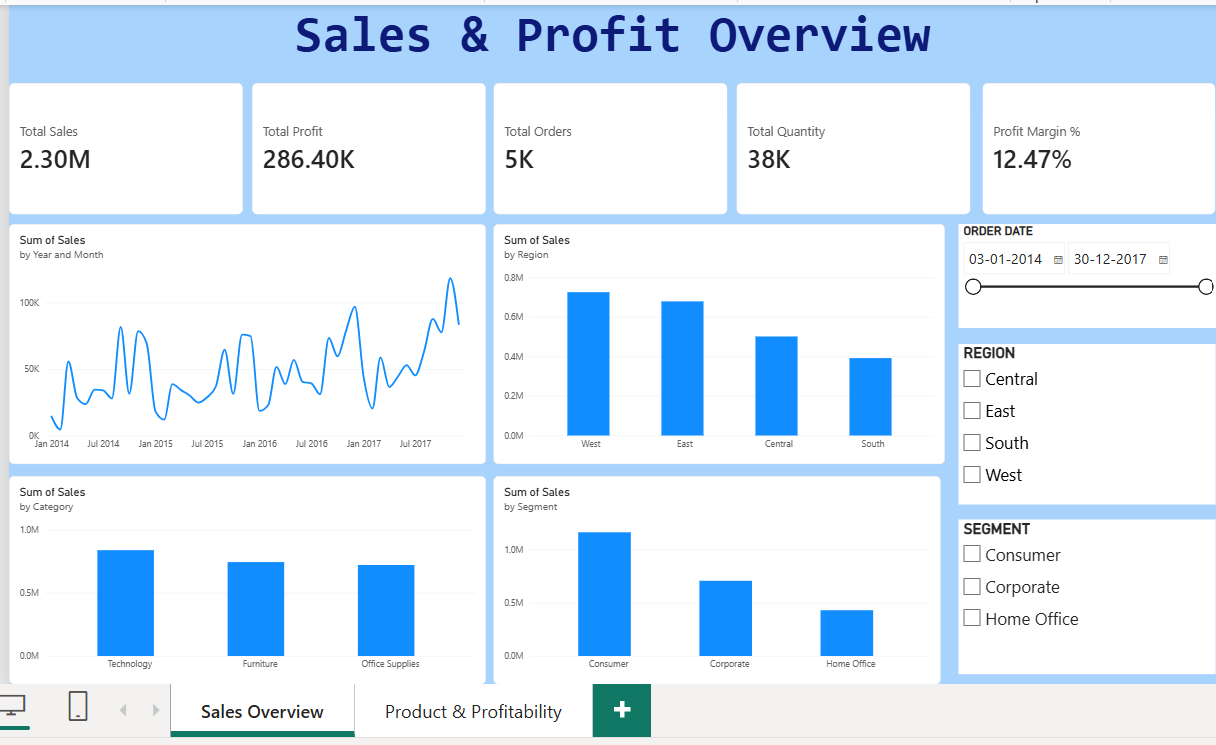

The dashboard page shown, as its layout file describes it:
{"tool":"powerbi","page":{"name":"Sales Overview","canvas":[1920,1080],"ordinal":0},"visuals":[{"type":"cardVisual","fields":{"Data":["Sample - Superstore.Total Sales"]},"box":[0,124.1,372.2,210],"z":0},{"type":"cardVisual","fields":{"Data":["Sample - Superstore.Total Profit"]},"box":[386.5,124.1,372.2,210],"z":1},{"type":"cardVisual","fields":{"Data":["Sample - Superstore.Total Orders"]},"box":[770.7,124.1,372.2,210],"z":2},{"type":"cardVisual","fields":{"Data":["Sample - Superstore.Total Quantity"]},"box":[1157.2,124.1,372.2,210],"z":3},{"type":"cardVisual","fields":{"Data":["Sample - Superstore.Profit Margin %"]},"box":[1548.5,124.1,372.2,210],"z":4},{"type":"lineChart","fields":{"Category":["Sample - Superstore.Order Date.Variation.Date Hierarchy.Year","Sample - Superstore.Order Date.Variation.Date Hierarchy.Month"],"Y":["Sum(Sample - Superstore.Sales)"]},"box":[0,348.3,758.7,381.7],"z":5},{"type":"clusteredColumnChart","fields":{"Category":["Sample - Superstore.Category"],"Y":["Sum(Sample - Superstore.Sales)"]},"box":[0,749.2,758.7,331.6],"z":6},{"type":"clusteredColumnChart","fields":{"Category":["Sample - Superstore.Region"],"Y":["Sum(Sample - Superstore.Sales)"]},"box":[770.7,348.3,718.2,381.7],"z":7},{"type":"clusteredColumnChart","fields":{"Category":["Sample - Superstore.Segment"],"Y":["Sum(Sample - Superstore.Sales)"]},"box":[770.7,749.2,711,331.6],"z":8},{"type":"textbox","box":[0,0,1920.7,124.1],"z":9},{"type":"slicer","fields":{"Values":["Sample - Superstore.Order Date"]},"box":[1510.3,348.3,410.4,164.6],"z":10},{"type":"slicer","fields":{"Values":["Sample - Superstore.Region"]},"box":[1510.3,539.2,410.4,255.3],"z":11},{"type":"slicer","fields":{"Values":["Sample - Superstore.Segment"]},"box":[1510.3,818.4,410.4,245.7],"z":12}]}

Visuals, with their boxes on the page's 1920x1080 design canvas (x1, y1, x2, y2). These are canvas units, not pixel positions in the 1216x745 screenshot, which may show the page scaled, cropped or inside an application window:
cardVisual - Sample - Superstore.Total Sales: pyautogui.locateOnScreen(0, 124, 372, 334)
cardVisual - Sample - Superstore.Total Profit: pyautogui.locateOnScreen(386, 124, 759, 334)
cardVisual - Sample - Superstore.Total Orders: pyautogui.locateOnScreen(771, 124, 1143, 334)
cardVisual - Sample - Superstore.Total Quantity: pyautogui.locateOnScreen(1157, 124, 1529, 334)
cardVisual - Sample - Superstore.Profit Margin %: pyautogui.locateOnScreen(1548, 124, 1921, 334)
lineChart - Sample - Superstore.Order Date.Variation.Date Hierarchy.Year x Sample - Superstore.Order Date.Variation.Date Hierarchy.Month: pyautogui.locateOnScreen(0, 348, 759, 730)
clusteredColumnChart - Sample - Superstore.Category x Sum(Sample - Superstore.Sales): pyautogui.locateOnScreen(0, 749, 759, 1081)
clusteredColumnChart - Sample - Superstore.Region x Sum(Sample - Superstore.Sales): pyautogui.locateOnScreen(771, 348, 1489, 730)
clusteredColumnChart - Sample - Superstore.Segment x Sum(Sample - Superstore.Sales): pyautogui.locateOnScreen(771, 749, 1482, 1081)
textbox: pyautogui.locateOnScreen(0, 0, 1921, 124)
slicer - Sample - Superstore.Order Date: pyautogui.locateOnScreen(1510, 348, 1921, 513)
slicer - Sample - Superstore.Region: pyautogui.locateOnScreen(1510, 539, 1921, 794)
slicer - Sample - Superstore.Segment: pyautogui.locateOnScreen(1510, 818, 1921, 1064)
